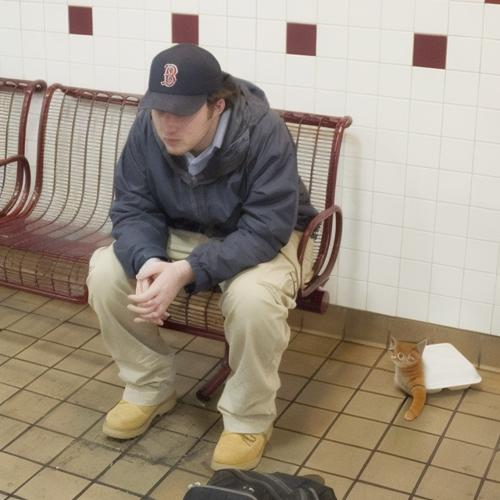cat: (394, 341, 426, 425)
person: (85, 43, 323, 470)
person/foot: (209, 409, 276, 470), (108, 388, 183, 438)
person/hand: (134, 256, 195, 326), (132, 273, 172, 326)
person/head: (143, 59, 232, 165)
